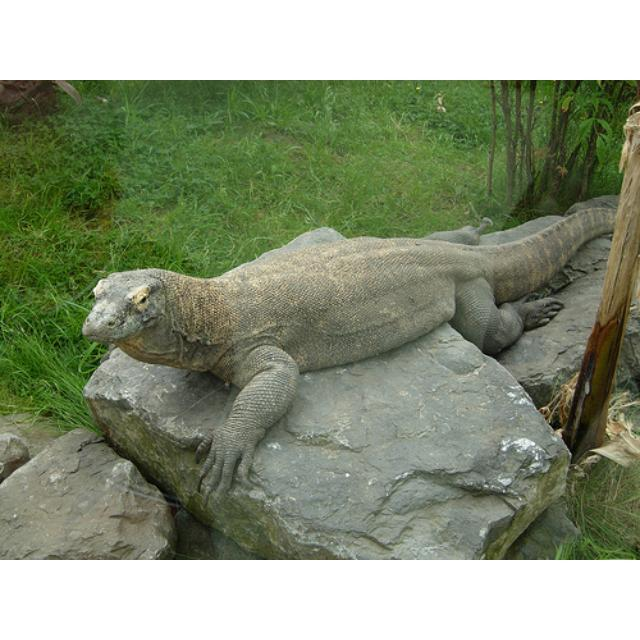KomodoDragon: (81, 206, 621, 505)
